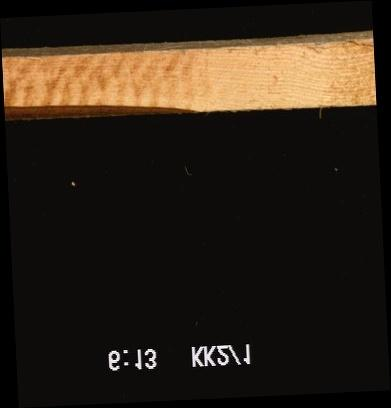wave: (1, 34, 373, 53), (4, 100, 203, 117)
